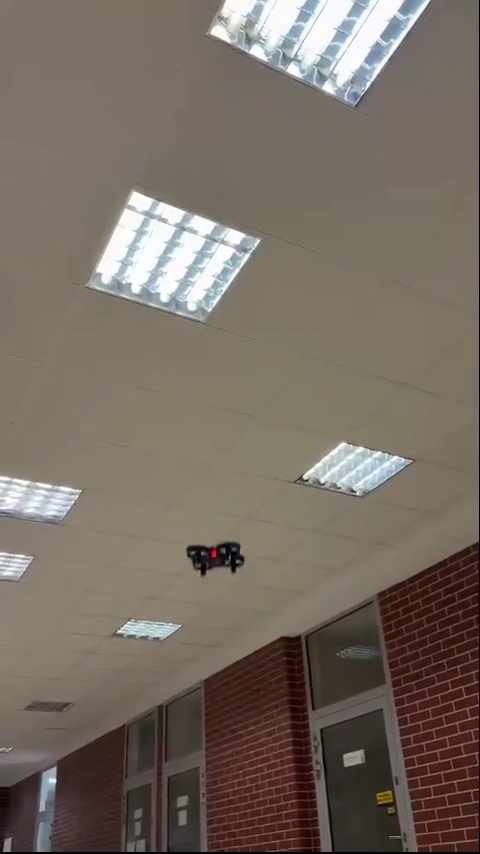drone: (183, 541, 249, 575)
